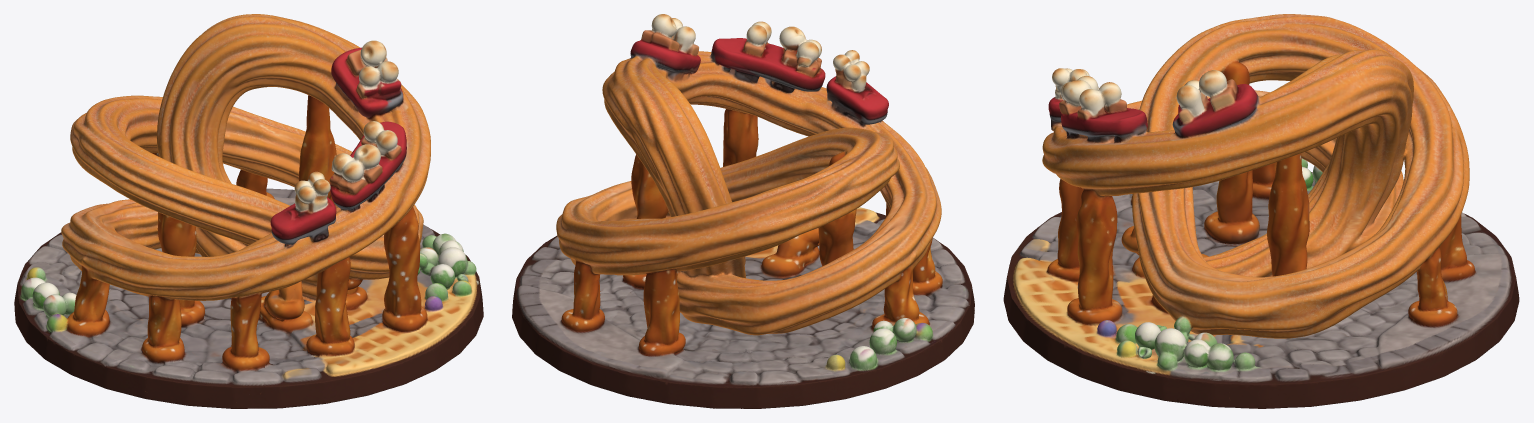
File: ride-roller-coaster-churro.glb
3 views of the same model, side by side, from view 1: azimuth 30°, elevation 25°; view 2: azimuth 150°, elevation 25°; view 3: azimuth 270°, elevation 25° (orthographic). The views are drawn at different scales.
Bounding box in the file's own units: 1.9 × 1.15 × 1.9.
Materials: 1 (1 with a texture image).
